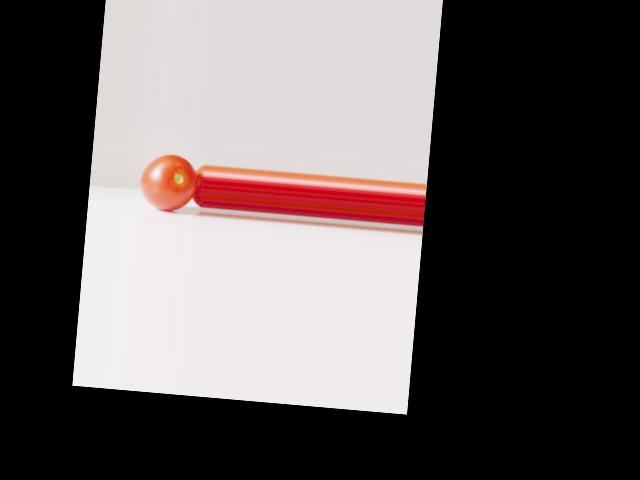tomato: (138, 152, 199, 212)
